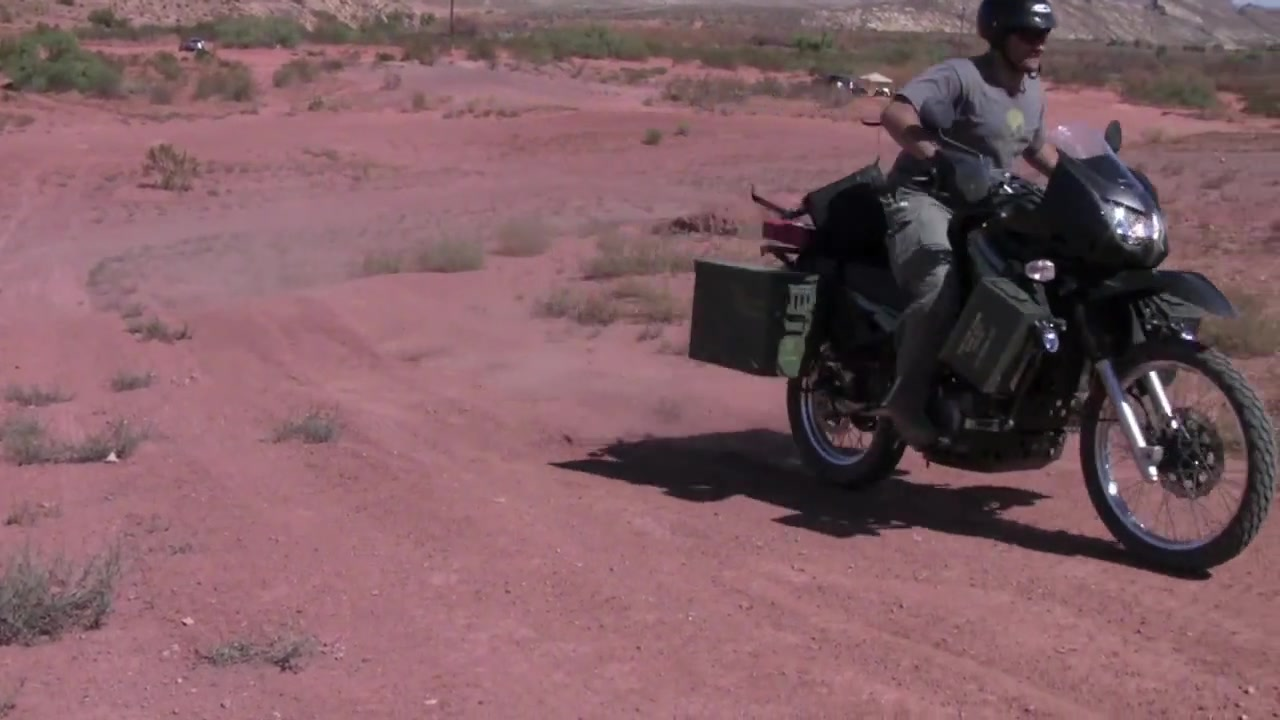motorbike: (748, 119, 1275, 581)
